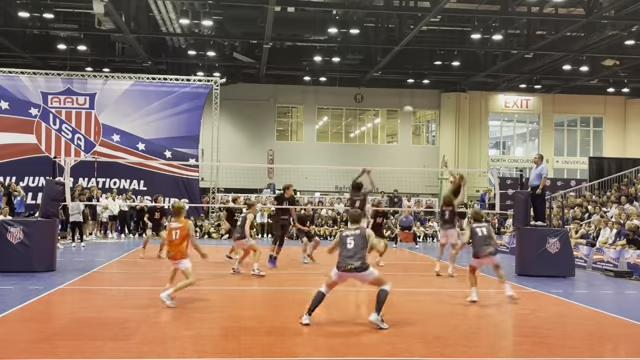Attack: (439, 152, 466, 198)
Player: (300, 209, 390, 328), (160, 201, 206, 306), (466, 208, 516, 302), (232, 201, 265, 276), (268, 184, 295, 267), (435, 193, 458, 276), (140, 195, 165, 257), (294, 203, 319, 263), (348, 169, 374, 226), (369, 200, 387, 265), (222, 195, 242, 238)
ball: (402, 104, 413, 116)
